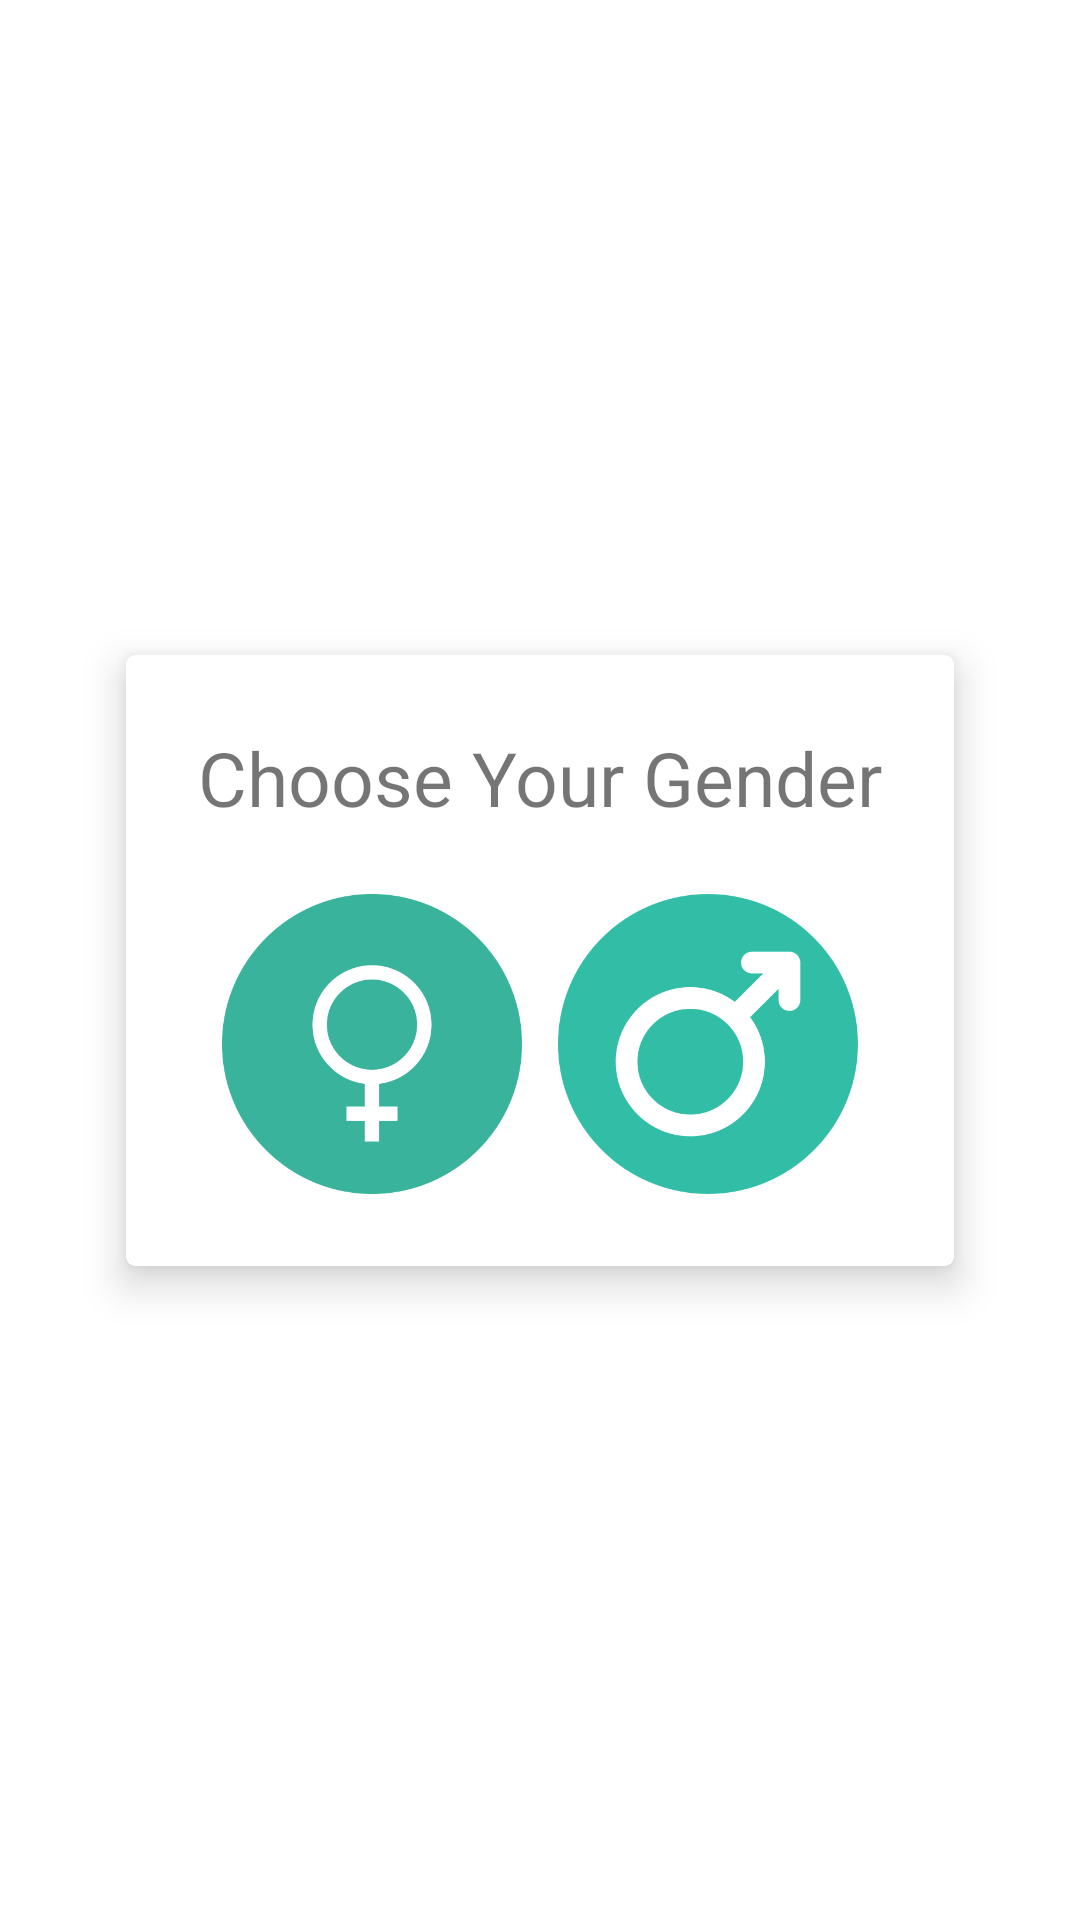

Icon bounding boxes for this 1080 × 1920 phone screenshot, format (x1, y1, x2, y2):
female: (222, 894, 522, 1194)
male: (558, 894, 858, 1194)
